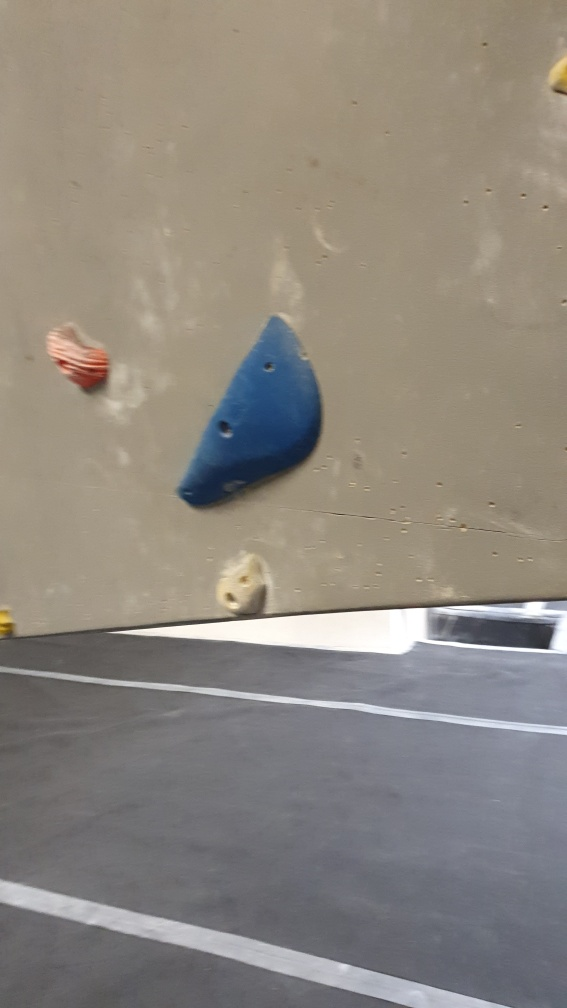Jug: (43, 321, 115, 397)
